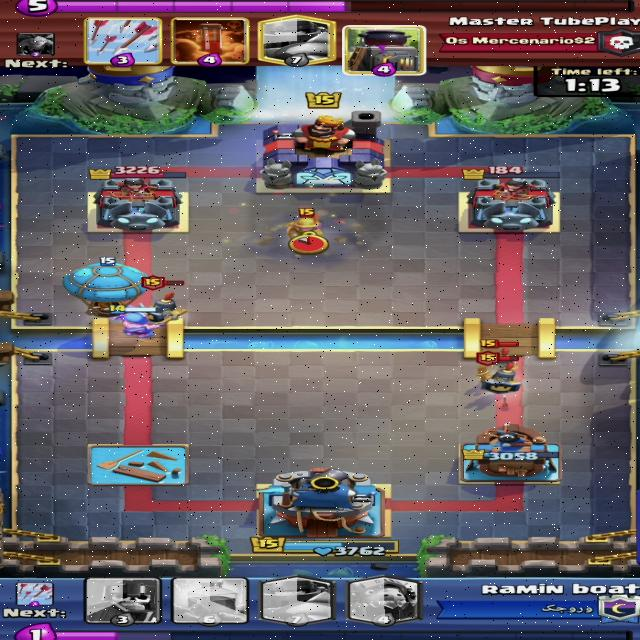Enemy-Guard: (139, 274, 188, 326), (474, 350, 524, 396), (478, 339, 520, 380)
Enemy-Musketeer: (287, 207, 325, 250)
Player-Balloon: (62, 257, 152, 318)
Player-Lumberjack: (106, 303, 170, 339)
